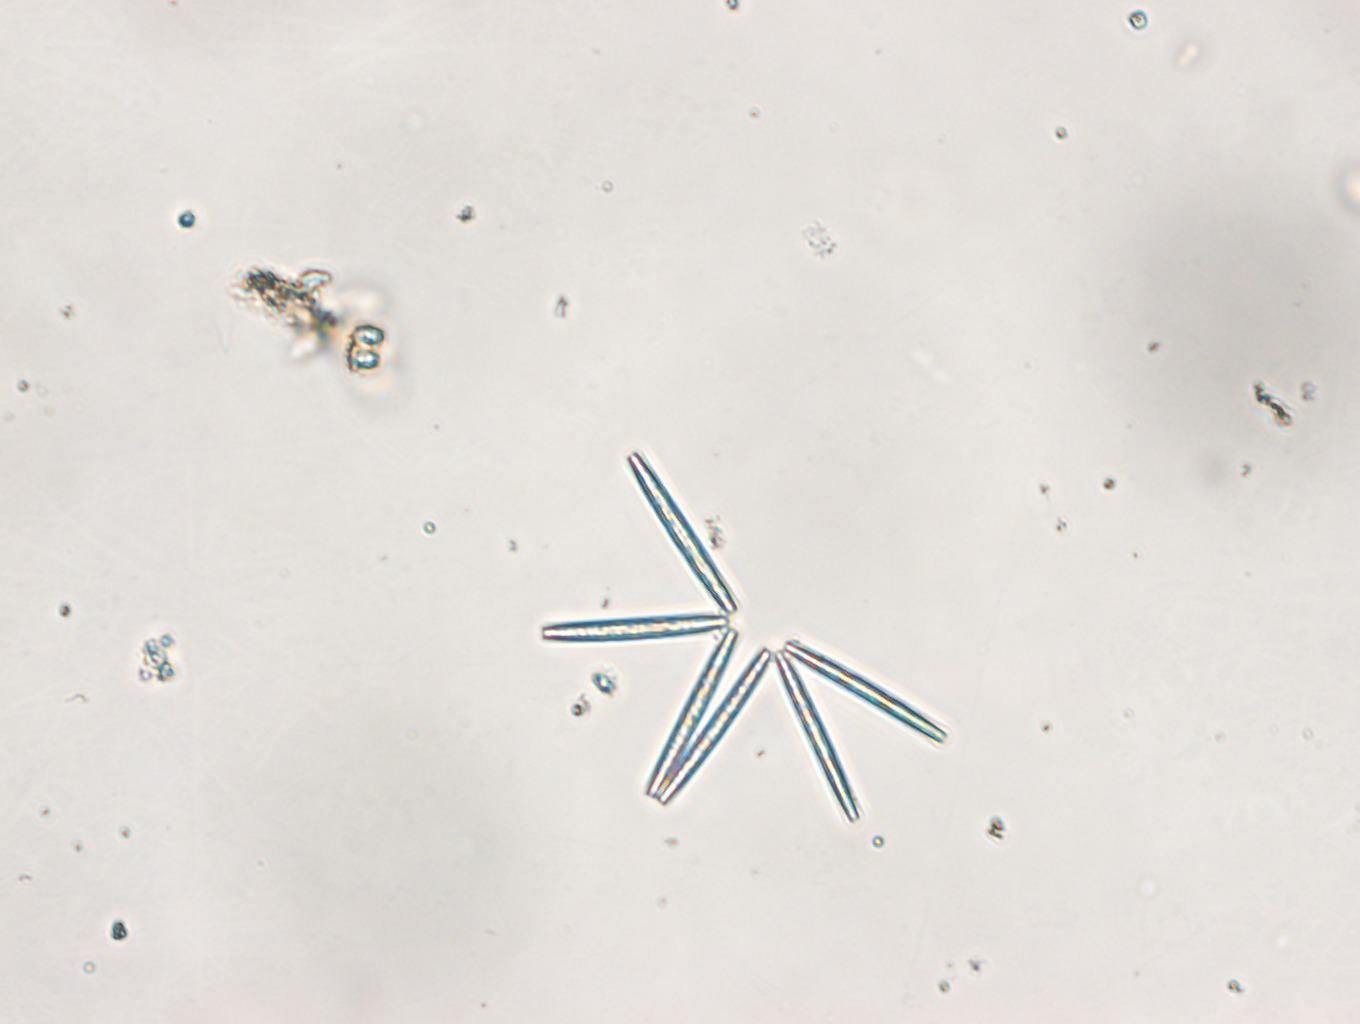thalassionema nitzschioides: (535, 445, 949, 828)
